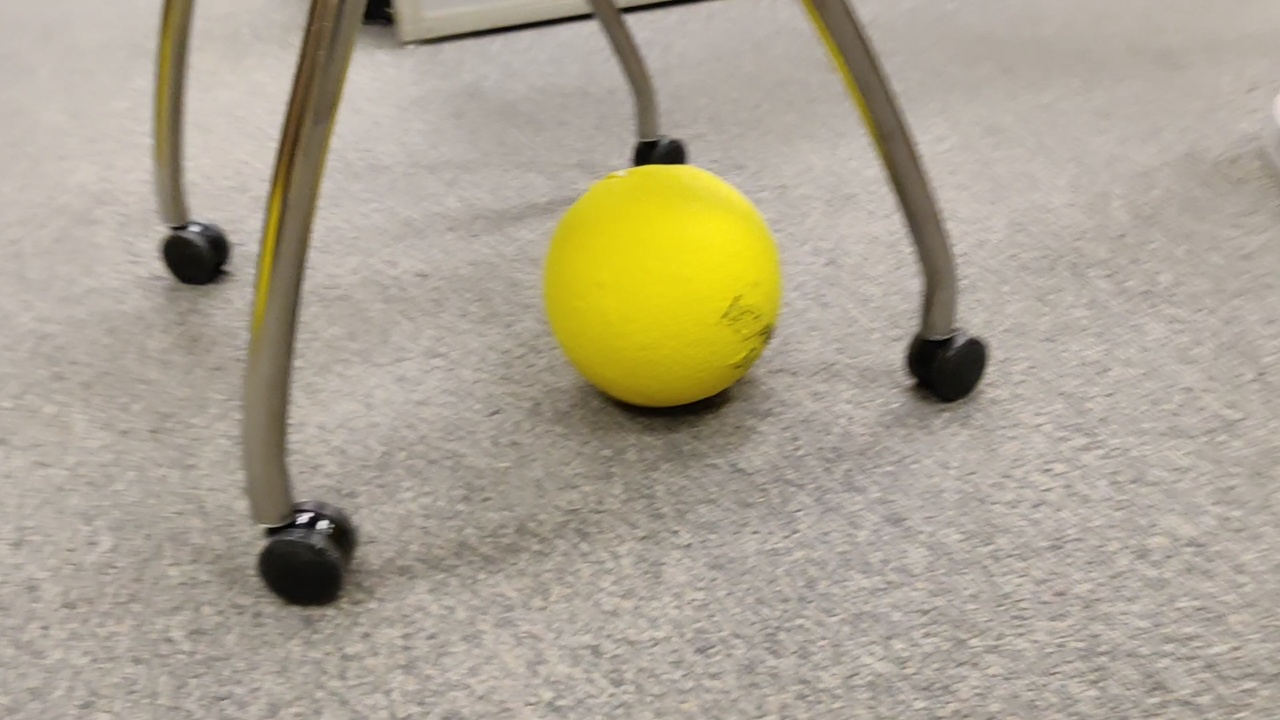Ball: (527, 160, 782, 403)
